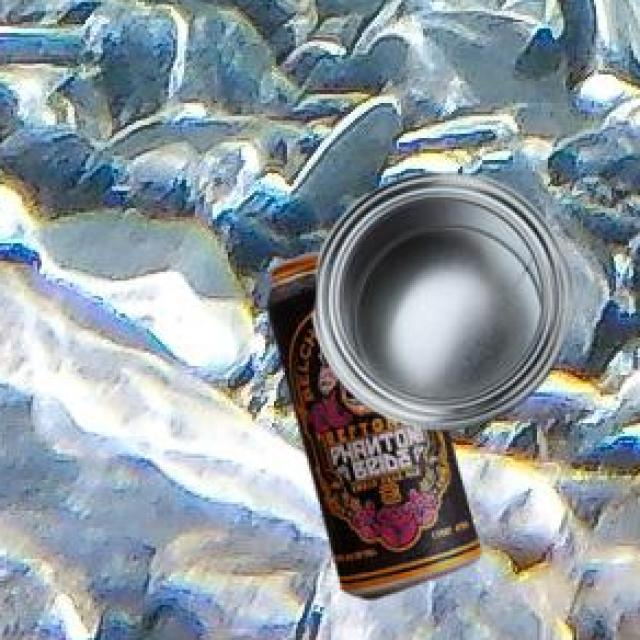logam: (264, 249, 477, 595), (310, 170, 569, 426)
